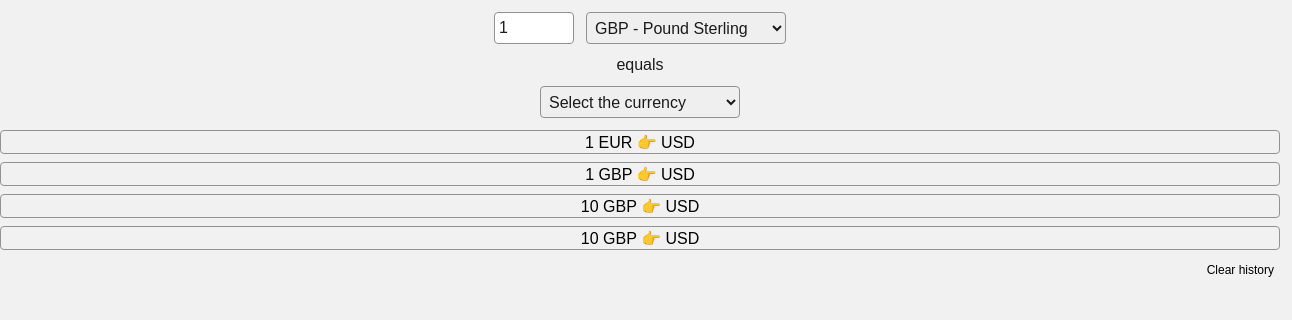
Test: Converter › handles same currency error
This screenshot has width=1292, height=320.
Select "GBP - Pound Sterling" in the 2nd dropdown at (640, 102), box left=540, top=86, right=740, bottom=118
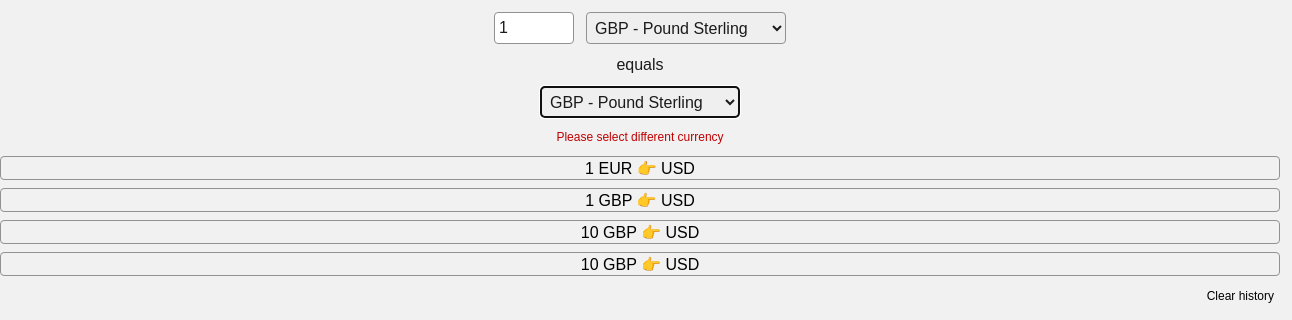
Now the text "Please select different currency" is shown, box left=556, top=130, right=724, bottom=144
